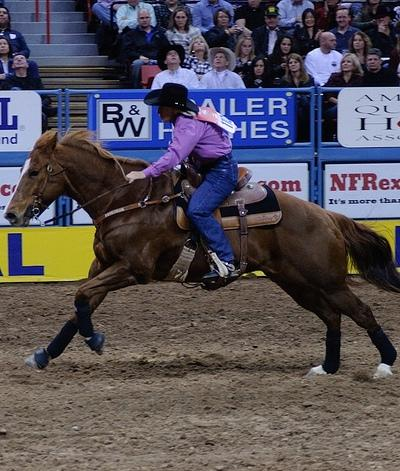person: (124, 82, 239, 292)
